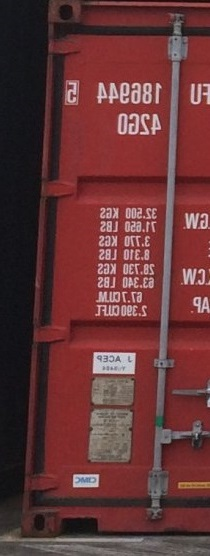container_door: (23, 1, 201, 536)
